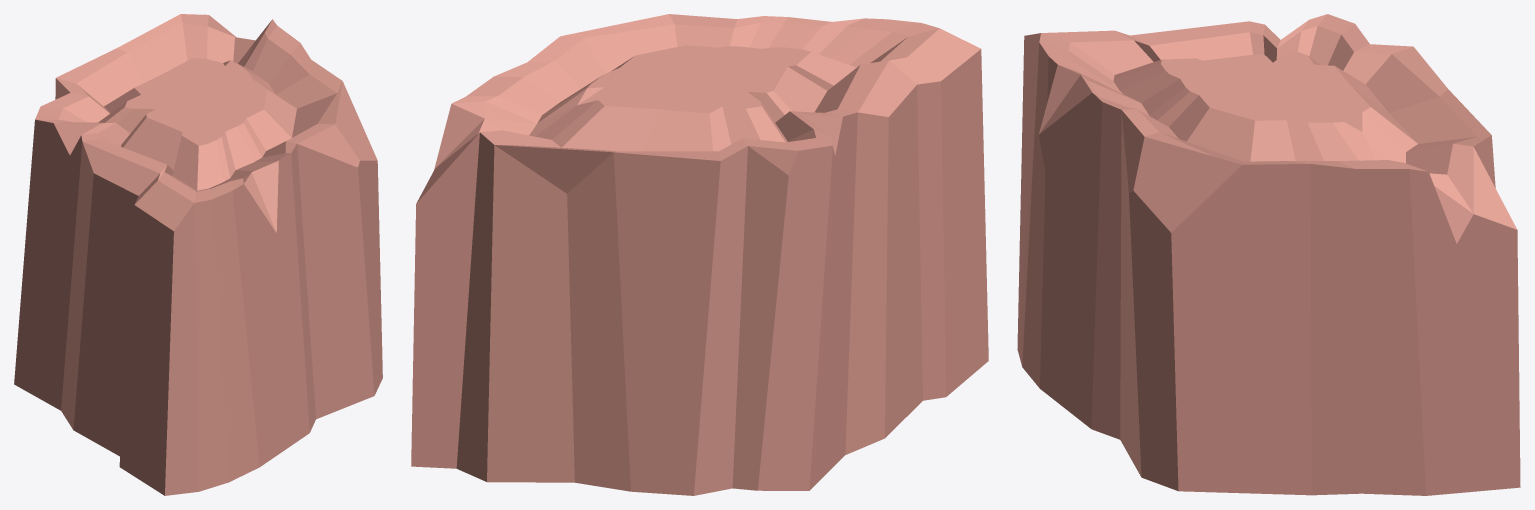
File: Romb_V6_Vlad.fbx
3 renders of one model, left to right at view 1: azimuth 30°, elevation 25°; view 2: azimuth 150°, elevation 25°; view 3: azimuth 270°, elevation 25°, orthographic. The views are drawn at different scales.
Parts seen in each view (by area): view 1: Romb_V6; view 2: Romb_V6; view 3: Romb_V6.
Boxes of the visible parts, x1,y1,x2,y2 form: Romb_V6: [14, 14, 382, 495]; Romb_V6: [411, 14, 988, 495]; Romb_V6: [1017, 14, 1520, 495].
Bounding box in the file's own units: 112 × 103 × 144.
